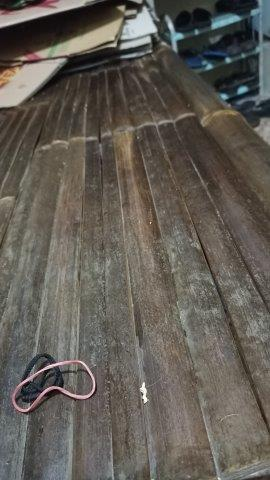kardus: (1, 1, 156, 109)
karet: (11, 353, 96, 412)
